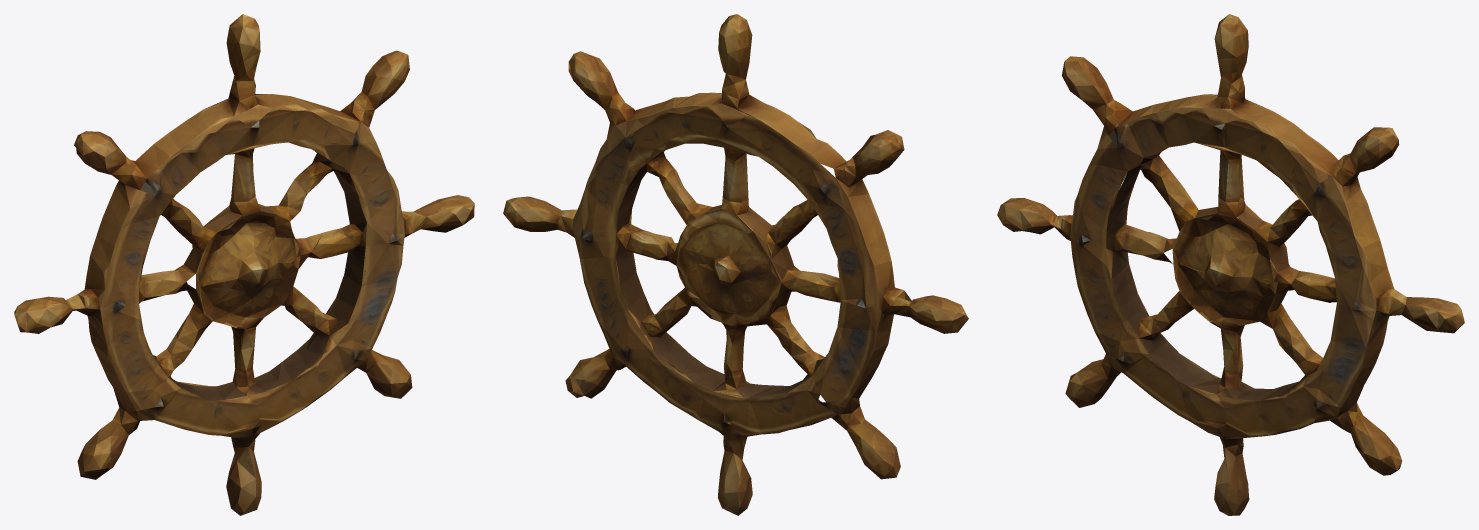
The model's file is wheel-classic.glb.
3 renders of one model, left to right at view 1: azimuth 30°, elevation 25°; view 2: azimuth 150°, elevation 25°; view 3: azimuth 330°, elevation 25°, orthographic.
Parts seen in each view (by area): view 1: geometry_0.011; view 2: geometry_0.011; view 3: geometry_0.011.
Part boxes in pixels (x1=…): geometry_0.011: x1=14, y1=14, x2=474, y2=515; geometry_0.011: x1=503, y1=14, x2=968, y2=515; geometry_0.011: x1=997, y1=14, x2=1464, y2=515.
Size of the model in its own units: 0.9527 by 0.9941 by 0.1092.
Materials: 1 (1 with a texture image).
